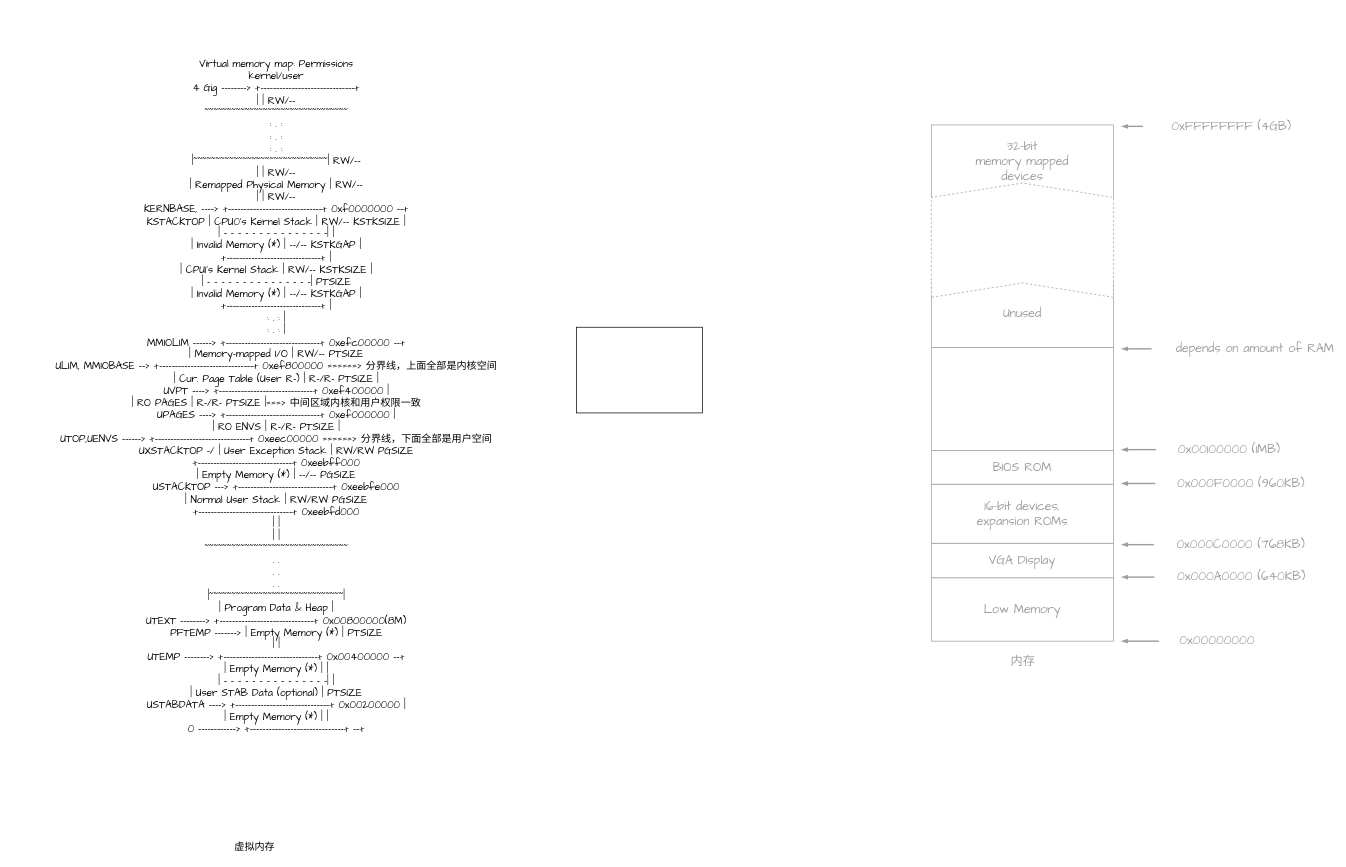
Image size: 1346x867. Some labels were removed from this diagram. Each missing label, with the centre of its shape:
Extended Memory: the point at 1022,398
物理内存分配器 （以 page 为单位分配，大小为 4096 字节）: the point at 639,370
